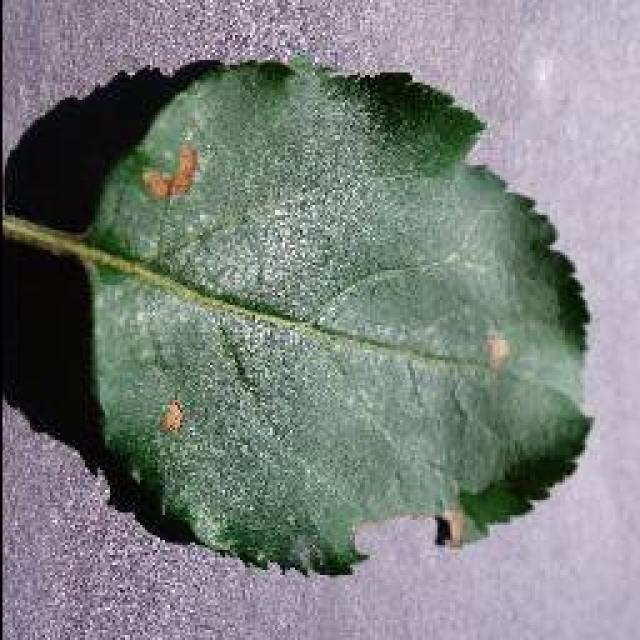apple scab disease: (0, 52, 595, 578)
